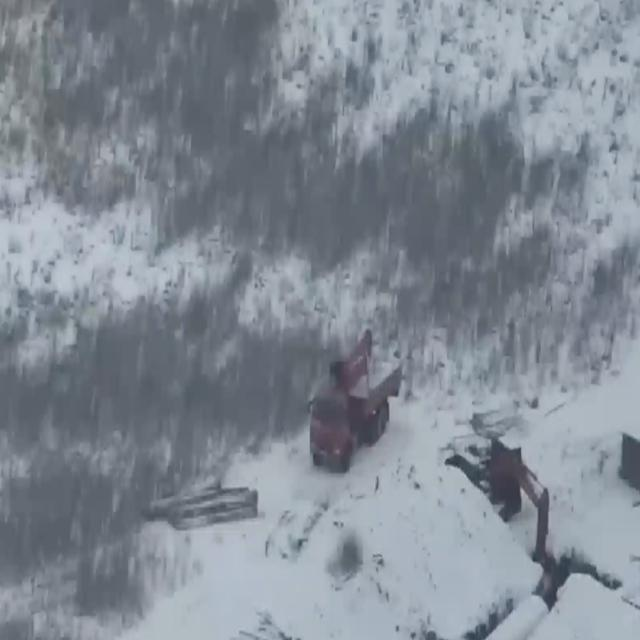vehicle: (308, 327, 402, 470)
